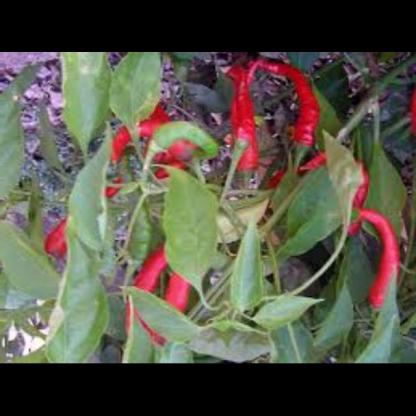hot pepper: (100, 101, 209, 185), (242, 56, 325, 156), (43, 178, 127, 260), (120, 242, 177, 352), (222, 58, 274, 173), (350, 199, 402, 311), (130, 114, 224, 171), (152, 251, 201, 348), (329, 150, 372, 244)
